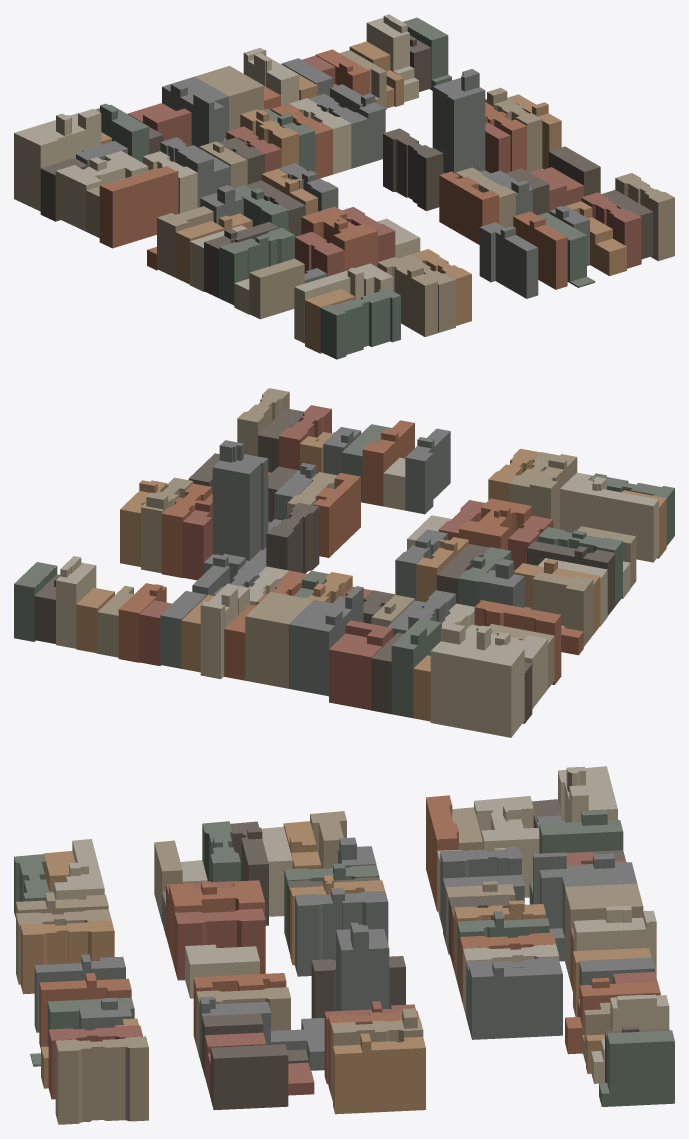
Rendered from tile-0_10.glb.
The picture shows the model from 3 angles, top to bottom: view 1: azimuth 30°, elevation 25°; view 2: azimuth 150°, elevation 25°; view 3: azimuth 270°, elevation 25°; orthographic projection. The views are drawn at different scales.
Parts seen in each view (by area): view 1: wall, roof; view 2: wall, roof; view 3: wall, roof.
Boxes of the visible parts, x1,y1,x2,y2 form: wall: (14, 16, 674, 359); roof: (14, 14, 674, 315); wall: (14, 392, 674, 737); roof: (14, 388, 674, 673); wall: (14, 768, 674, 1124); roof: (14, 766, 674, 1093).
Size of the model in its own units: 185 by 48.62 by 192.
